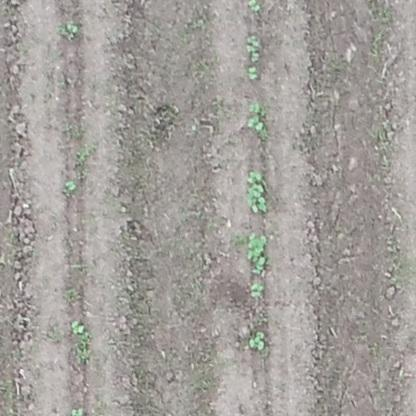vc: (246, 168, 268, 214), (246, 230, 266, 274), (247, 329, 269, 351), (246, 35, 262, 62), (249, 280, 266, 298), (249, 116, 264, 130), (66, 24, 82, 35), (247, 66, 258, 81), (72, 320, 84, 333), (65, 180, 76, 193), (249, 1, 260, 13)
